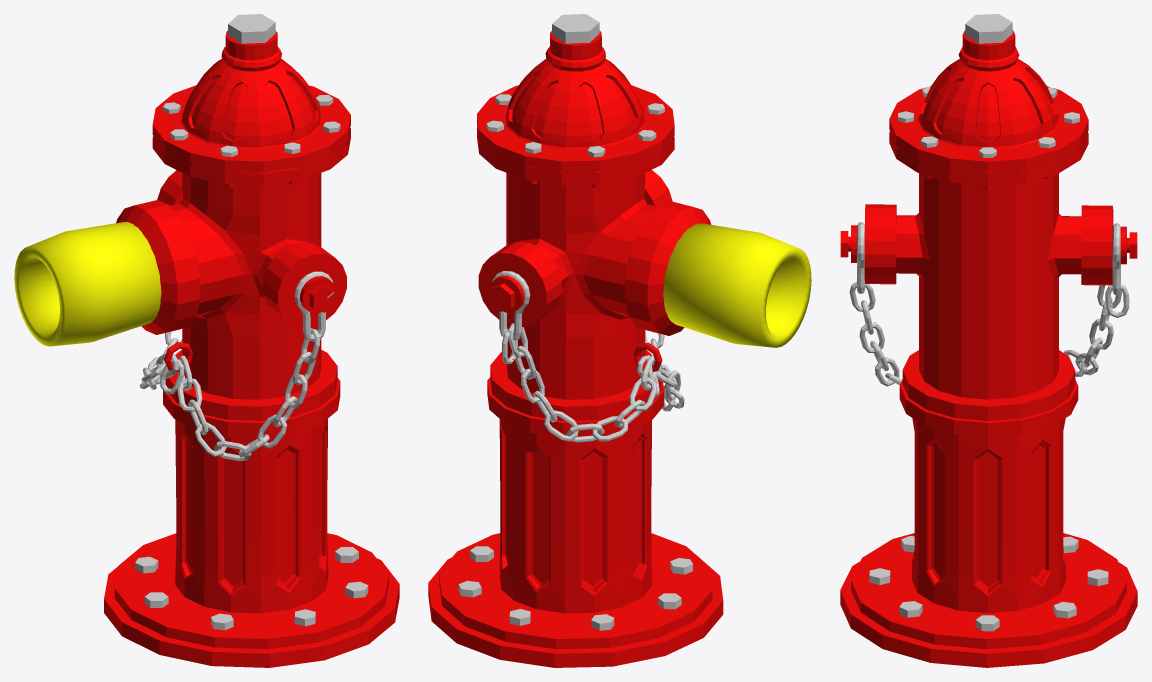
The model's file is hydrant.fbx.
The picture shows the model from 3 angles, left to right: view 1: azimuth 30°, elevation 25°; view 2: azimuth 150°, elevation 25°; view 3: azimuth 270°, elevation 25°; orthographic projection.
Visible parts, largest first — view 1: hydrant; view 2: hydrant; view 3: hydrant.
Part boxes in pixels (bbox=[...]): hydrant: bbox=[14, 14, 399, 667]; hydrant: bbox=[428, 14, 811, 667]; hydrant: bbox=[840, 14, 1137, 667].
Size of the model in its own units: 44.09 by 72.22 by 33.46.
